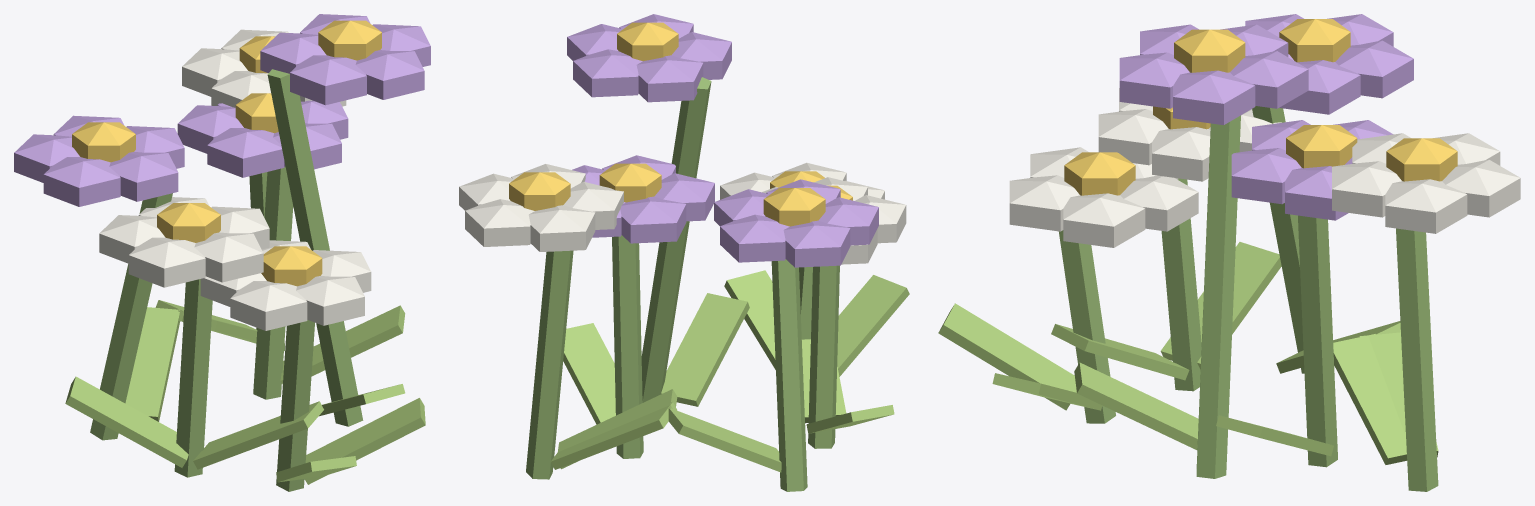
File: flowers_violet.glb
3 views of the same model, side by side, from view 1: azimuth 30°, elevation 25°; view 2: azimuth 150°, elevation 25°; view 3: azimuth 270°, elevation 25° (orthographic). The views are drawn at different scales.
Parts seen in each view (by area): view 1: flowers_violet; view 2: flowers_violet; view 3: flowers_violet.
Boxes of the visible parts, <box> form: flowers_violet: <box>14,14,430,491</box>; flowers_violet: <box>459,14,909,491</box>; flowers_violet: <box>938,14,1520,491</box>.
Size of the model in its own units: 0.626 by 0.6623 by 0.7782.
